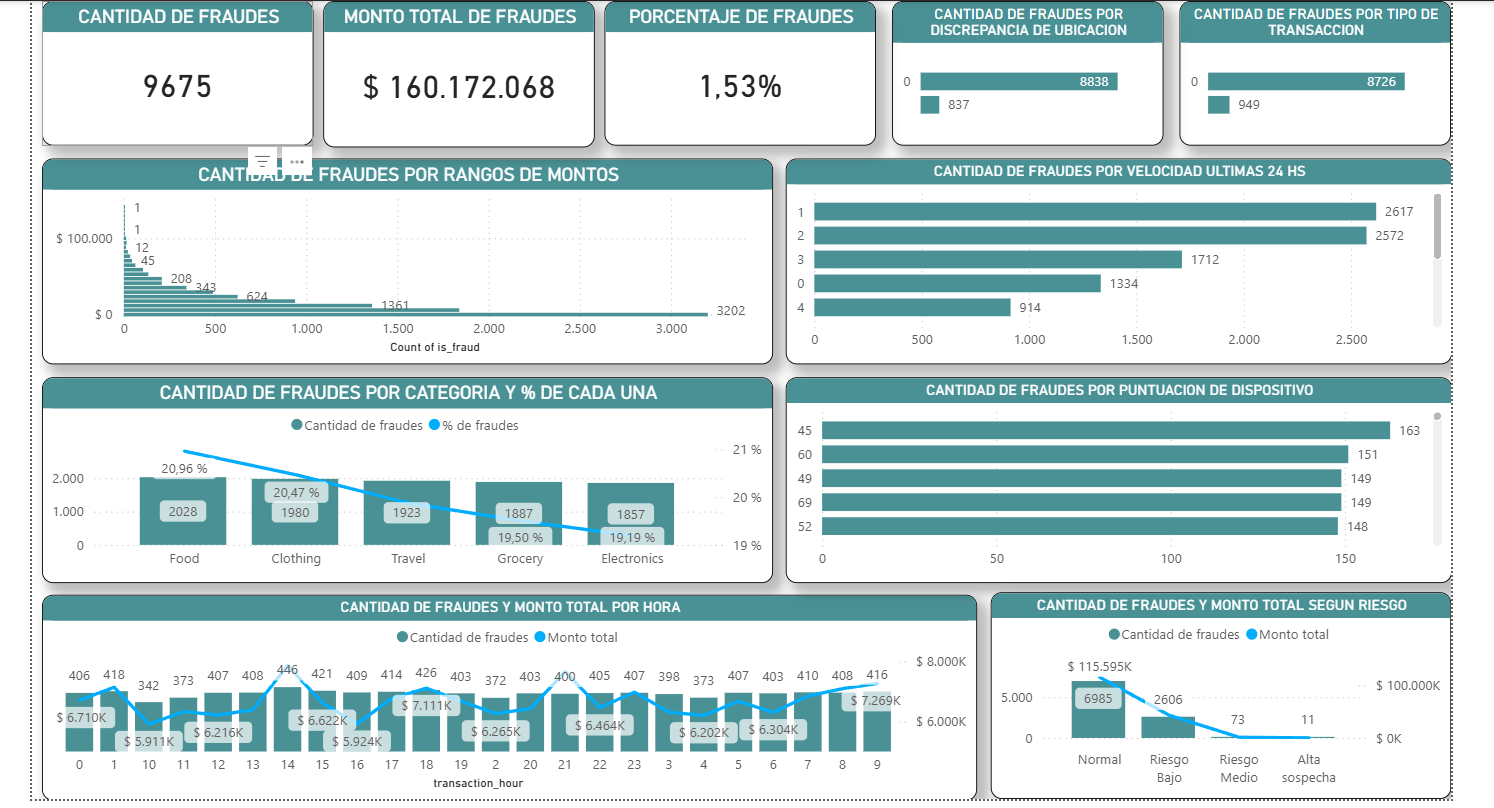

The page's visual inventory and layout, read from the dashboard file:
{"tool":"powerbi","page":{"name":"Page 1","canvas":[1280,720],"ordinal":0},"visuals":[{"type":"barChart","title":"CANTIDAD DE FRAUDES POR RANGOS DE MONTOS","fields":{"Y":["CountNonNull(Credit_Card_Fraud_Detection_Dataset.is_fraud)"],"Category":["Credit_Card_Fraud_Detection_Dataset.amount (bins)"]},"box":[8.7,141.8,659.3,185.3],"z":0},{"type":"lineStackedColumnComboChart","title":"CANTIDAD DE FRAUDES POR CATEGORIA Y % DE CADA UNA","fields":{"Category":["Credit_Card_Fraud_Detection_Dataset.merchant_category"],"Y":["CountNonNull(Credit_Card_Fraud_Detection_Dataset.is_fraud)"],"Y2":["Credit_Card_Fraud_Detection_Dataset.% Fraud"]},"box":[8.7,339.6,659.3,185.3],"z":2000},{"type":"clusteredBarChart","title":"CANTIDAD DE FRAUDES POR TIPO DE TRANSACCION","fields":{"Category":["Credit_Card_Fraud_Detection_Dataset.foreign_transaction"],"Y":["CountNonNull(Credit_Card_Fraud_Detection_Dataset.is_fraud)"]},"box":[1035,0,245.1,130.6],"z":3000},{"type":"barChart","title":"CANTIDAD DE FRAUDES POR DISCREPANCIA DE UBICACION","fields":{"Y":["CountNonNull(Credit_Card_Fraud_Detection_Dataset.is_fraud)"],"Category":["Credit_Card_Fraud_Detection_Dataset.location_mismatch"]},"box":[775,0,245.1,130.6],"z":4000},{"type":"lineStackedColumnComboChart","title":"CANTIDAD DE FRAUDES Y MONTO TOTAL POR HORA","fields":{"Category":["Credit_Card_Fraud_Detection_Dataset.transaction_hour"],"Y":["CountNonNull(Credit_Card_Fraud_Detection_Dataset.is_fraud)"],"Y2":["Sum(Credit_Card_Fraud_Detection_Dataset.amount)"]},"box":[8.7,534.9,843.4,185.3],"z":5000},{"type":"barChart","title":"CANTIDAD DE FRAUDES POR VELOCIDAD ULTIMAS 24 HS","fields":{"Category":["Credit_Card_Fraud_Detection_Dataset.velocity_last_24h"],"Y":["CountNonNull(Credit_Card_Fraud_Detection_Dataset.is_fraud)"]},"box":[679.2,141.8,600.8,185.3],"z":6000},{"type":"barChart","title":"CANTIDAD DE FRAUDES POR PUNTUACION DE DISPOSITIVO","fields":{"Y":["CountNonNull(Credit_Card_Fraud_Detection_Dataset.is_fraud)"],"Category":["Credit_Card_Fraud_Detection_Dataset.device_trust_score"]},"box":[679.2,339.6,600.8,185.3],"z":7000},{"type":"lineClusteredColumnComboChart","title":"CANTIDAD DE FRAUDES Y MONTO TOTAL SEGUN RIESGO","fields":{"Category":["Credit_Card_Fraud_Detection_Dataset.Combo_Riesgo"],"Y":["CountNonNull(Credit_Card_Fraud_Detection_Dataset.is_fraud)"],"Y2":["Sum(Credit_Card_Fraud_Detection_Dataset.amount)"]},"box":[864.6,533.7,415.5,186.6],"z":8000},{"type":"card","title":"CANTIDAD DE FRAUDES","fields":{"Values":["CountNonNull(Credit_Card_Fraud_Detection_Dataset.is_fraud)"]},"box":[8.7,0,245,130.6],"z":8001},{"type":"card","title":"MONTO TOTAL DE FRAUDES","fields":{"Values":["Sum(Credit_Card_Fraud_Detection_Dataset.amount)"]},"box":[262.5,0,245.1,131.9],"z":8002},{"type":"card","title":"PORCENTAJE DE FRAUDES","fields":{"Values":["Credit_Card_Fraud_Detection_Dataset.Ratio_Fraude"]},"box":[516.2,0,245.1,130.6],"z":8003}]}

Visuals, with their boxes in screenshot pixels (x1, y1, x2, y2):
"CANTIDAD DE FRAUDES POR RANGOS DE MONTOS" barChart: [37, 184, 768, 390]
"CANTIDAD DE FRAUDES POR CATEGORIA Y % DE CADA UNA" lineStackedColumnComboChart: [37, 404, 768, 609]
"CANTIDAD DE FRAUDES POR TIPO DE TRANSACCION" clusteredBarChart: [1174, 27, 1446, 172]
"CANTIDAD DE FRAUDES POR DISCREPANCIA DE UBICACION" barChart: [886, 27, 1158, 172]
"CANTIDAD DE FRAUDES Y MONTO TOTAL POR HORA" lineStackedColumnComboChart: [37, 620, 972, 807]
"CANTIDAD DE FRAUDES POR VELOCIDAD ULTIMAS 24 HS" barChart: [780, 184, 1446, 390]
"CANTIDAD DE FRAUDES POR PUNTUACION DE DISPOSITIVO" barChart: [780, 404, 1446, 609]
"CANTIDAD DE FRAUDES Y MONTO TOTAL SEGUN RIESGO" lineClusteredColumnComboChart: [986, 619, 1446, 807]
"CANTIDAD DE FRAUDES" card: [37, 27, 308, 172]
"MONTO TOTAL DE FRAUDES" card: [318, 27, 590, 173]
"PORCENTAJE DE FRAUDES" card: [599, 27, 871, 172]
